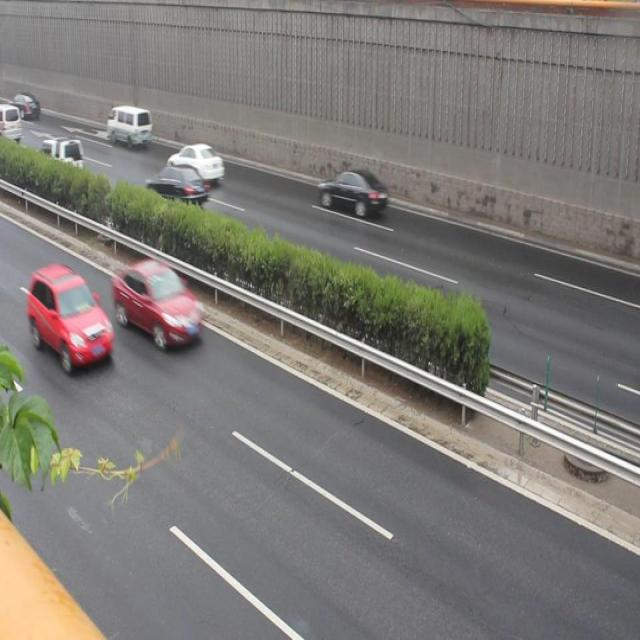car: (27, 267, 113, 368), (114, 258, 204, 350), (319, 167, 386, 222), (145, 166, 208, 210), (168, 141, 224, 184), (39, 136, 84, 182)
truck: (107, 106, 152, 151)
